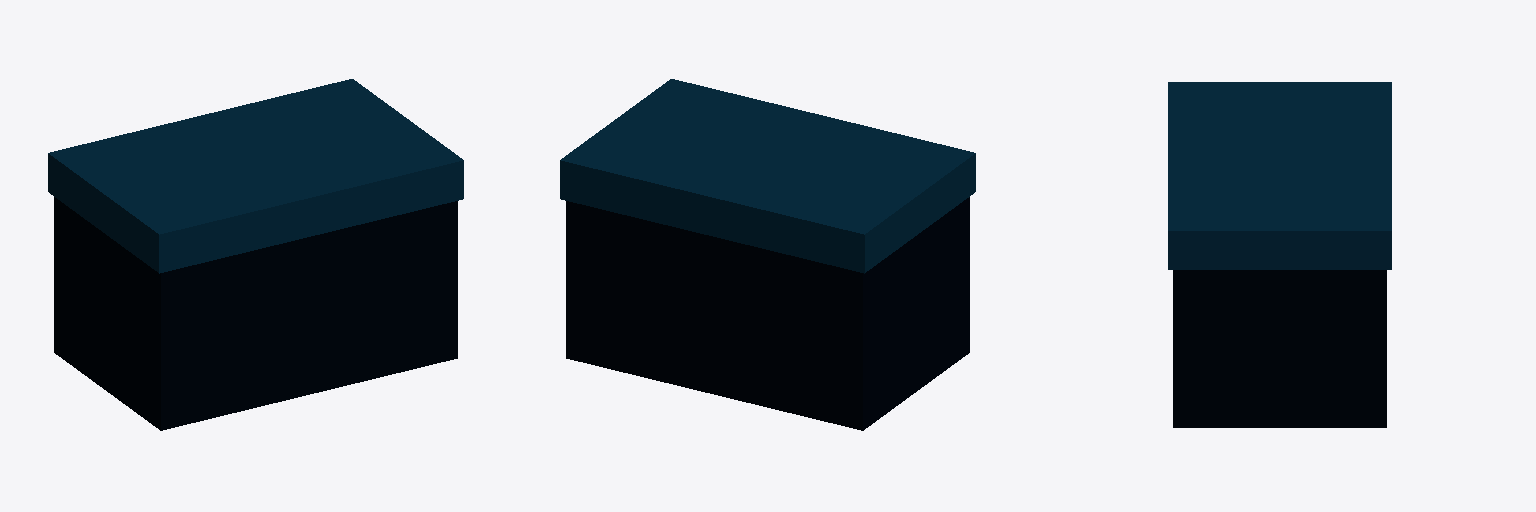
File: toolbox.obj
3 renders of one model, left to right at view 1: azimuth 30°, elevation 25°; view 2: azimuth 150°, elevation 25°; view 3: azimuth 270°, elevation 25°, orthographic.
Visible parts, largest first — view 1: Cube, Cube.001; view 2: Cube, Cube.001; view 3: Cube.001, Cube.
Boxes of the visible parts, x1,y1,x2,y2 form: Cube: [54, 197, 457, 430]; Cube.001: [48, 79, 463, 273]; Cube: [566, 197, 969, 430]; Cube.001: [560, 79, 975, 273]; Cube.001: [1168, 82, 1391, 269]; Cube: [1173, 270, 1386, 427].
Bounding box in the file's own units: 0.82 × 0.5108 × 0.52.